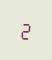two: (19, 19, 30, 40)
